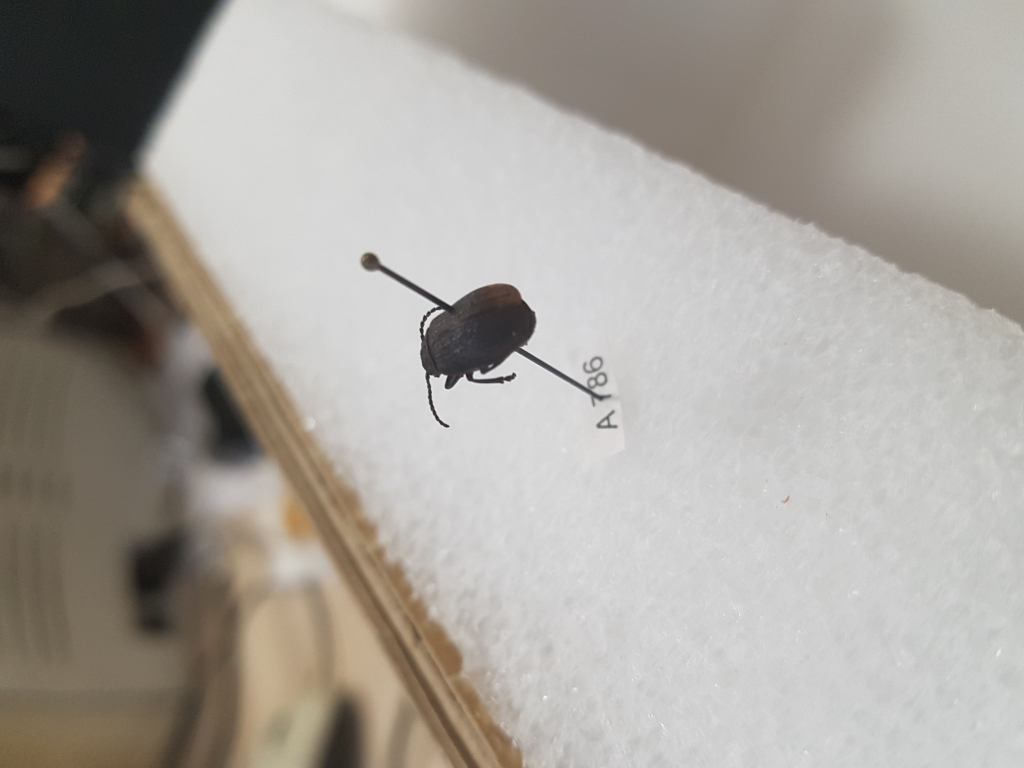Galeruca_tanaceti: (417, 283, 538, 427)
